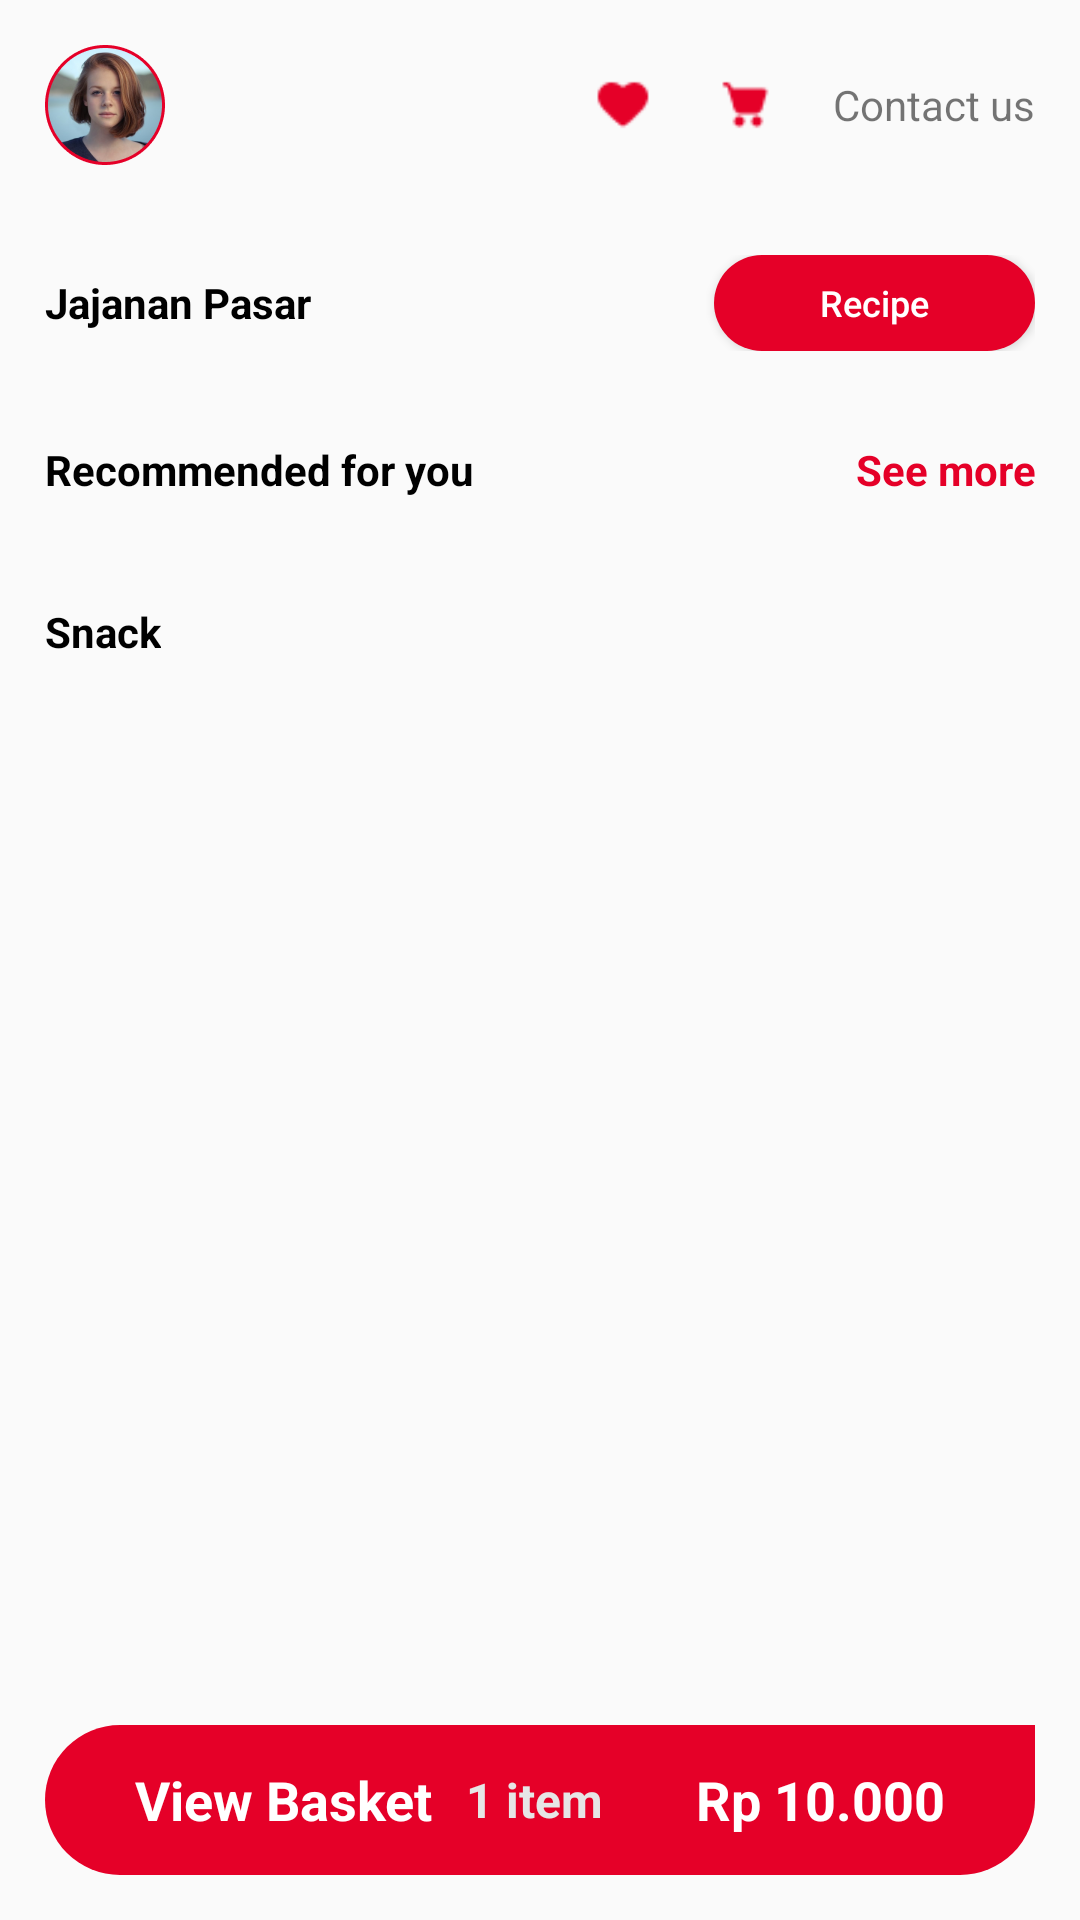

Where to tap for icons on this 1080×1920 app screen, as point (x, y):
cart: point (745, 105)
favourite: point (623, 104)
profile: point (105, 105)
